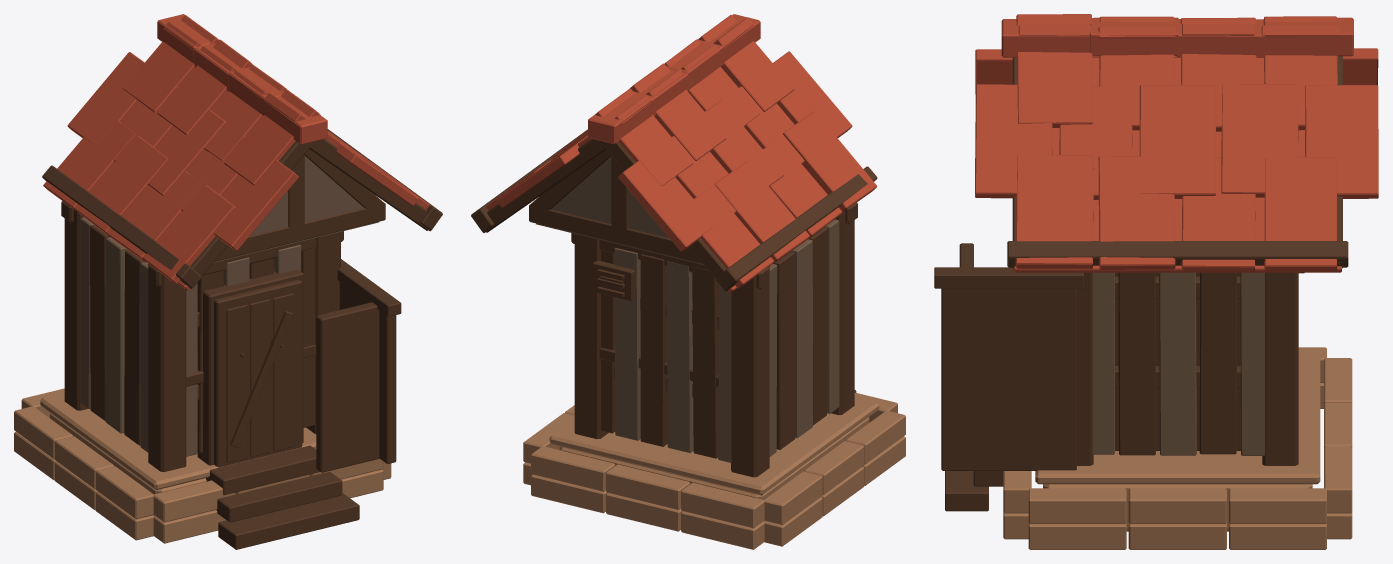
File: building_outhouse_b.glb
3 views of the same model, side by side, from view 1: azimuth 30°, elevation 25°; view 2: azimuth 150°, elevation 25°; view 3: azimuth 270°, elevation 25° (orthographic). The views are drawn at different scales.
Parts seen in each view (by area): view 1: building_outhouse_b_material_01, building_outhouse_b_material_03, building_outhouse_b_material_00, building_outhouse_b_material_02; view 2: building_outhouse_b_material_01, building_outhouse_b_material_03, building_outhouse_b_material_00, building_outhouse_b_material_02; view 3: building_outhouse_b_material_03, building_outhouse_b_material_01, building_outhouse_b_material_00, building_outhouse_b_material_02.
Boxes of the visible parts, bbox=[...] form: building_outhouse_b_material_01: bbox=[42, 129, 442, 549]; building_outhouse_b_material_03: bbox=[43, 14, 431, 290]; building_outhouse_b_material_00: bbox=[14, 388, 391, 543]; building_outhouse_b_material_02: bbox=[80, 156, 378, 456]; building_outhouse_b_material_01: bbox=[471, 129, 877, 477]; building_outhouse_b_material_03: bbox=[482, 14, 877, 293]; building_outhouse_b_material_00: bbox=[523, 392, 905, 549]; building_outhouse_b_material_02: bbox=[536, 156, 839, 462]; building_outhouse_b_material_03: bbox=[975, 14, 1378, 272]; building_outhouse_b_material_01: bbox=[934, 56, 1348, 511]; building_outhouse_b_material_00: bbox=[1003, 347, 1352, 549]; building_outhouse_b_material_02: bbox=[1092, 272, 1264, 455].
Bounding box in the file's own units: 3.29 × 4.06 × 3.42.
